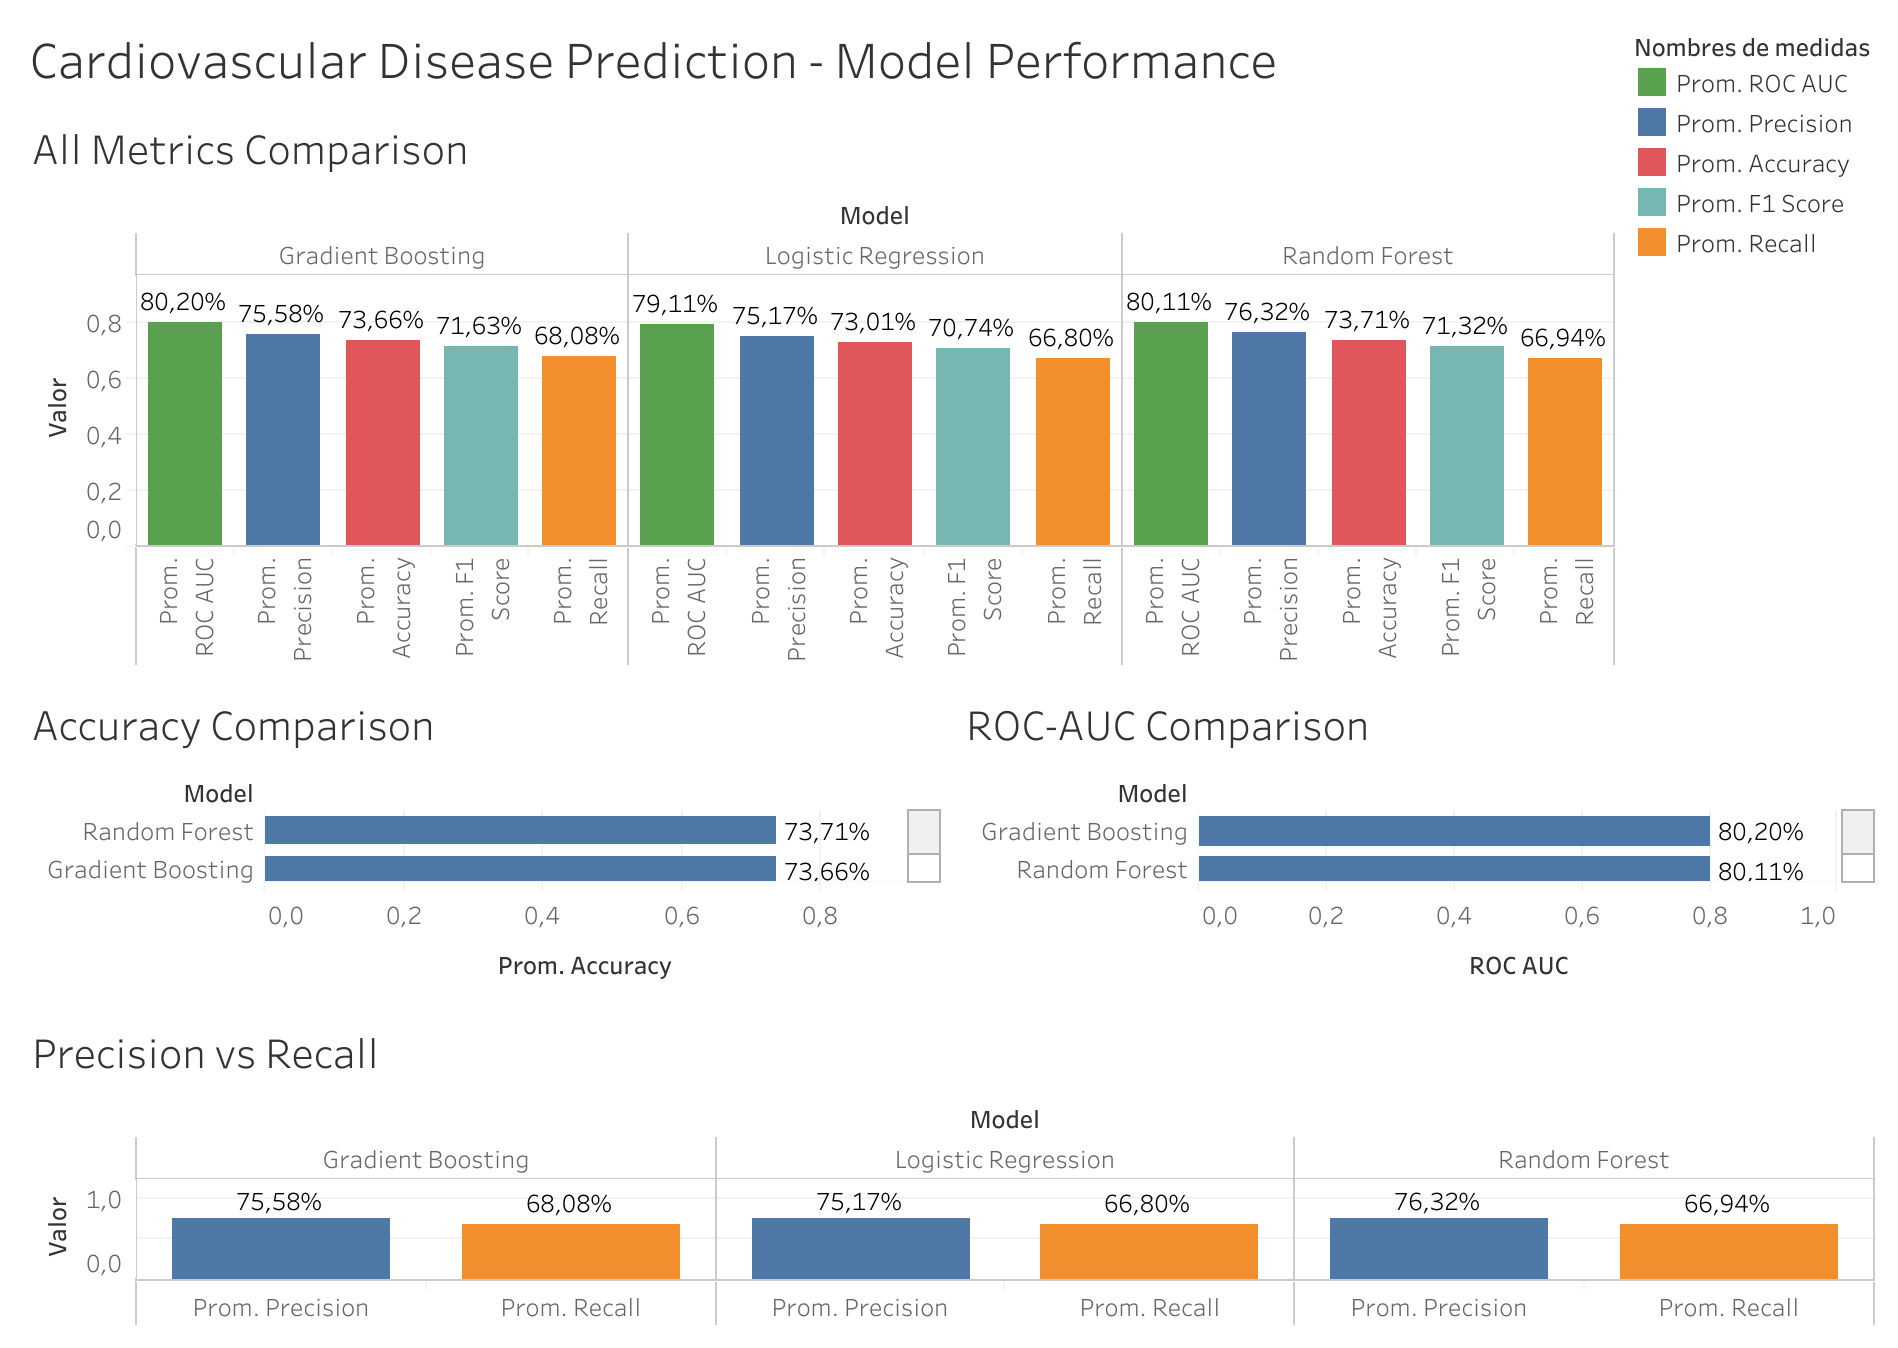

What the dashboard file says about the page in this screenshot:
{"tool":"tableau","page":{"name":"Cardiovascular Disease Prediction - Model Performance","canvas":[1000,1000],"units":"permille","ordinal":0},"visuals":[{"type":"title","box":[8.4,9.3,846.3,48.8]},{"type":"legend","title":"All Metrics Comparison","param":"[federated.0vig31j0qimx7n1gezv2b1gvd00v].[:Measure Names]","box":[854.7,9.3,136.8,146.5]},{"type":"worksheet","title":"All Metrics Comparison","mark":"Automatic","cols":["Model"],"box":[8.4,58.1,846.3,442.9]},{"type":"worksheet","title":"Accuracy Comparison","mark":"Bar","rows":["Model"],"cols":["Accuracy"],"box":[8.4,501.1,491.6,243.8]},{"type":"worksheet","title":"ROC-AUC Comparison","mark":"Bar","rows":["Model"],"cols":["ROC AUC"],"box":[500,501.1,491.6,243.8]},{"type":"worksheet","title":"Precision vs Recall","mark":"Bar","cols":["Model"],"box":[8.4,744.8,983.2,245.9]}]}

Visuals, with their boxes on the dashboard's canvas, which has no fixed pixel size, in thousandths of its width and height (x1, y1, x2, y2). These are canvas units, not pixel positions in the 1898x1348 screenshot, which may show the page scaled, cropped or inside an application window:
title: [8,9,855,58]
"All Metrics Comparison" legend: [855,9,992,156]
"All Metrics Comparison" worksheet: [8,58,855,501]
"Accuracy Comparison" worksheet (Bar marks): [8,501,500,745]
"ROC-AUC Comparison" worksheet (Bar marks): [500,501,992,745]
"Precision vs Recall" worksheet (Bar marks): [8,745,992,991]
